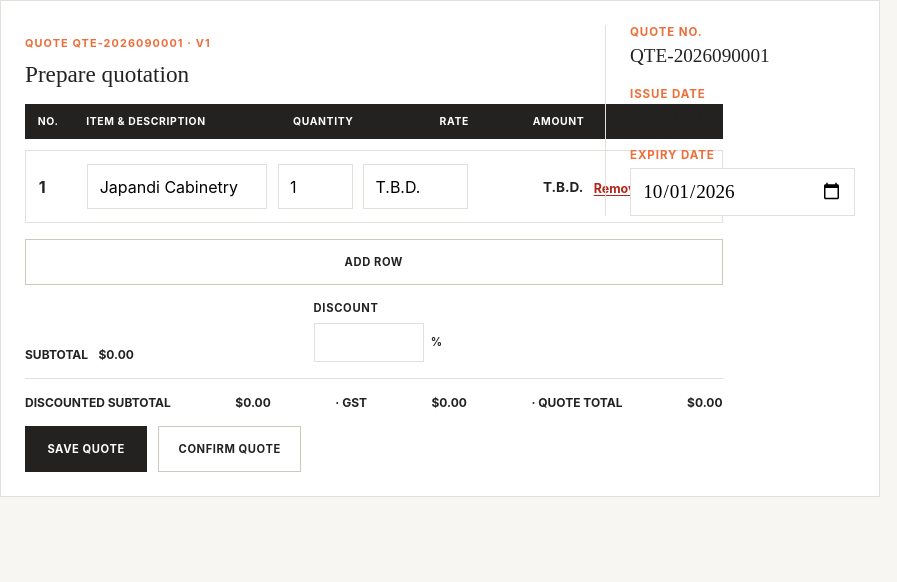
Test case: blocks quote confirmation while a line remains T.B.D.
Click the button "Confirm quote": (230, 449) [158,426,301,472]
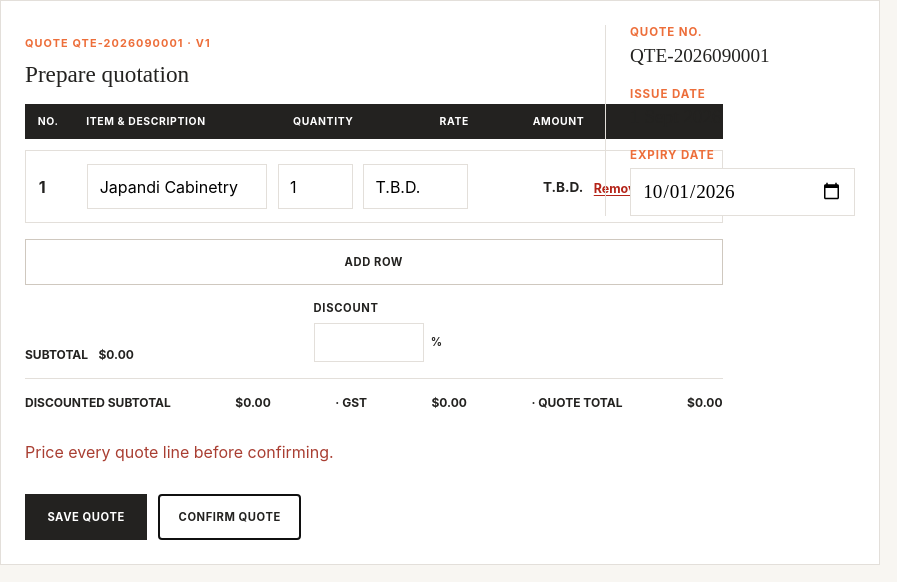
Now the text "Price every quote line before confirming." is shown, box [25,442,334,462]
